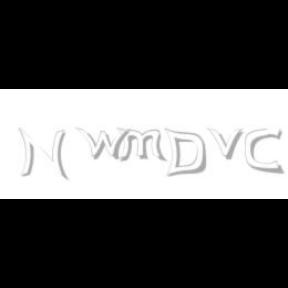C: (246, 128, 282, 174)
D: (164, 128, 207, 178)
N: (18, 128, 66, 180)
m: (116, 128, 168, 162)
v: (207, 128, 247, 160)
w: (76, 128, 134, 160)
